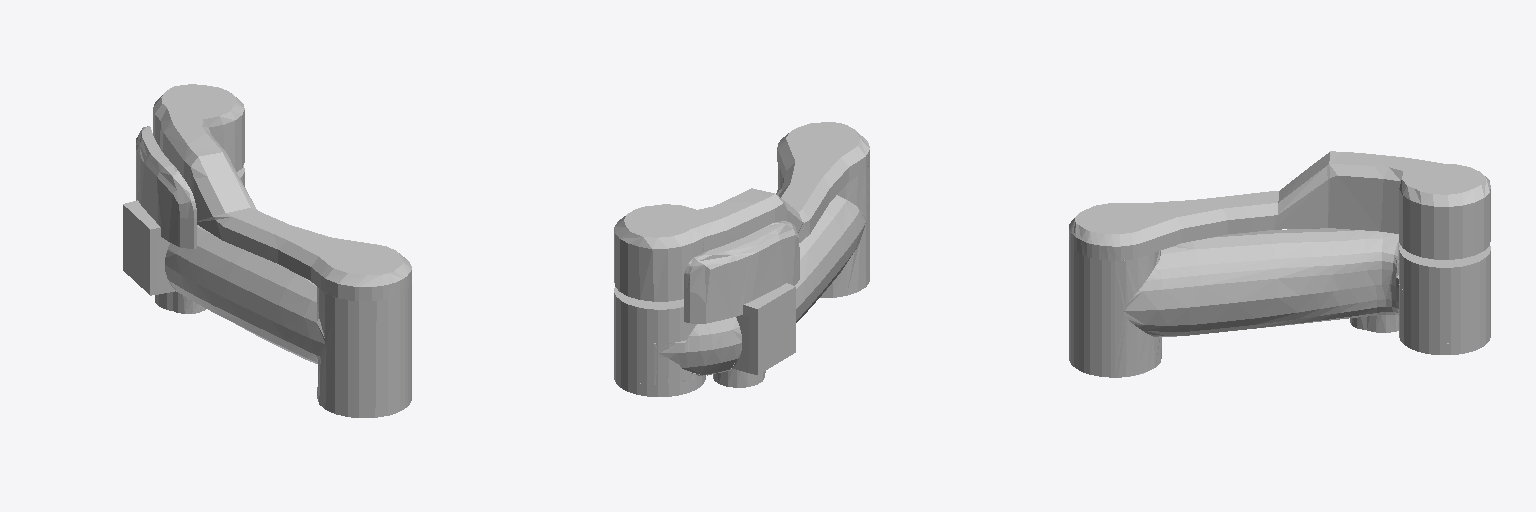
The model's file is LSP.obj.
3 views of the same model, side by side, from view 1: azimuth 30°, elevation 25°; view 2: azimuth 150°, elevation 25°; view 3: azimuth 270°, elevation 25° (orthographic).
Visible parts, largest first — view 1: Shape_IndexedFaceSet.002_Shape_IndexedFaceSet.086, Shape_IndexedFaceSet.001_Shape_IndexedFaceSet.085, Shape_IndexedFaceSet.003_Shape_IndexedFaceSet.087; view 2: Shape_IndexedFaceSet.001_Shape_IndexedFaceSet.085, Shape_IndexedFaceSet.002_Shape_IndexedFaceSet.086, Shape_IndexedFaceSet.003_Shape_IndexedFaceSet.087, Shape_IndexedFaceSet_Shape_IndexedFaceSet.084; view 3: Shape_IndexedFaceSet.002_Shape_IndexedFaceSet.086, Shape_IndexedFaceSet.001_Shape_IndexedFaceSet.085, Shape_IndexedFaceSet_Shape_IndexedFaceSet.084.
Part boxes in pixels (x1,y1,x2,y2): Shape_IndexedFaceSet.002_Shape_IndexedFaceSet.086: (155, 225, 411, 417); Shape_IndexedFaceSet.001_Shape_IndexedFaceSet.085: (153, 84, 411, 300); Shape_IndexedFaceSet.003_Shape_IndexedFaceSet.087: (123, 126, 196, 295); Shape_IndexedFaceSet.001_Shape_IndexedFaceSet.085: (614, 122, 869, 301); Shape_IndexedFaceSet.002_Shape_IndexedFaceSet.086: (640, 165, 869, 387); Shape_IndexedFaceSet.003_Shape_IndexedFaceSet.087: (684, 221, 799, 374); Shape_IndexedFaceSet_Shape_IndexedFaceSet.084: (614, 287, 705, 396); Shape_IndexedFaceSet.002_Shape_IndexedFaceSet.086: (1069, 228, 1448, 377); Shape_IndexedFaceSet.001_Shape_IndexedFaceSet.085: (1069, 151, 1490, 260); Shape_IndexedFaceSet_Shape_IndexedFaceSet.084: (1399, 245, 1490, 354).
Bounding box in the file's own units: 0.1173 × 0.1495 × 0.321.